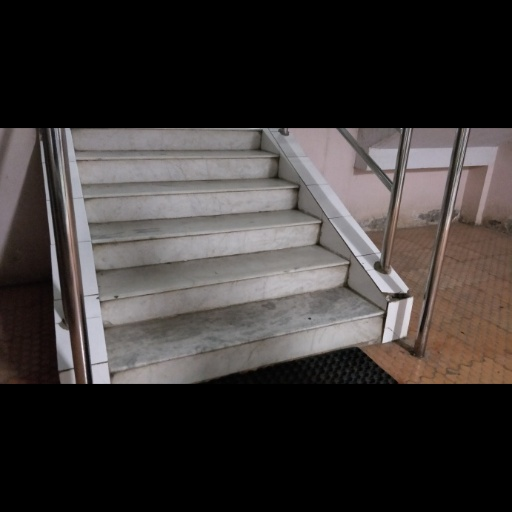Stairs: (66, 129, 412, 382)
